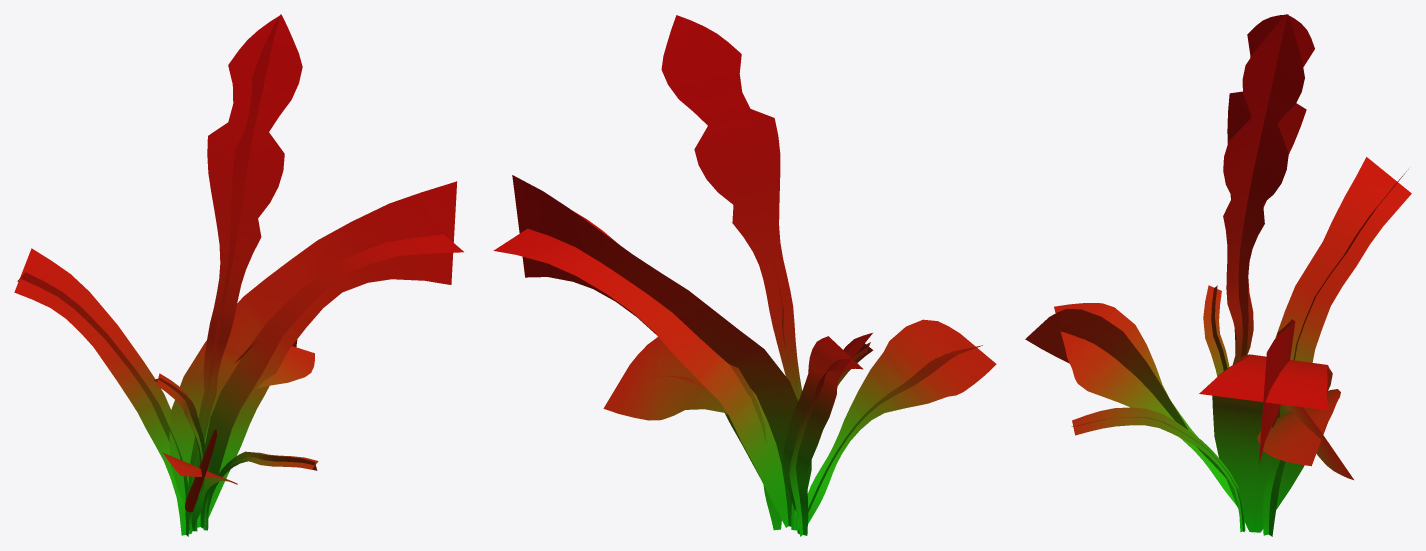
File: Green Herb_LOD0_Var5_tbbpaier.fbx
3 views of the same model, side by side, from view 1: azimuth 30°, elevation 25°; view 2: azimuth 150°, elevation 25°; view 3: azimuth 270°, elevation 25° (orthographic). The views are drawn at different scales.
Parts seen in each view (by area): view 1: _b44c_Var5_LOD0; view 2: _b44c_Var5_LOD0; view 3: _b44c_Var5_LOD0.
Part boxes in pixels (x1,y1,x2,y2): _b44c_Var5_LOD0: [14, 14, 463, 536]; _b44c_Var5_LOD0: [493, 15, 996, 536]; _b44c_Var5_LOD0: [1025, 14, 1411, 536].
Size of the model in its own units: 11.44 by 13.56 by 8.22.
